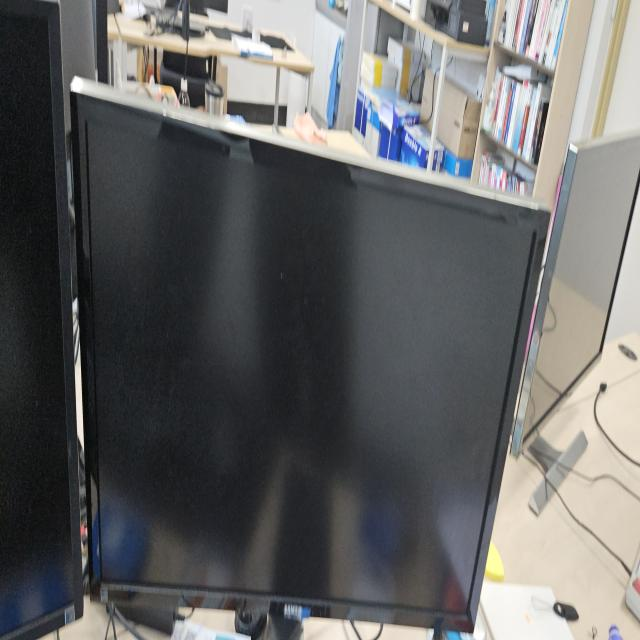Monitor: (68, 71, 551, 634)
